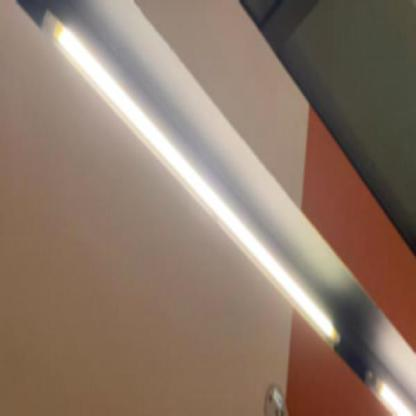light_on: (38, 0, 349, 369), (374, 354, 416, 415)
